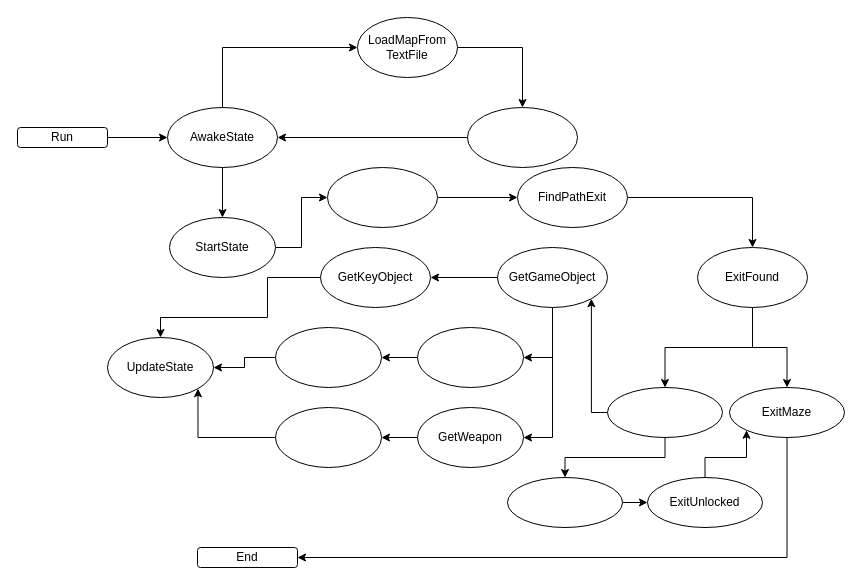
The diagram is 862 pixels wide and 585 high, and some of its shapes have lost their labels. The shapes that lost their labels are listed below. From the top down, each one's centre as x and y in pixels, then its label:
At pixel 522 137: "DrawMap".
At pixel 382 197: "AIAgendaState".
At pixel 328 357: "HealthIncrease".
At pixel 470 357: "GetHealth".
At pixel 664 412: "ExitLocked".
At pixel 328 437: "WeaponIncrease".
At pixel 564 502: "Key found".
